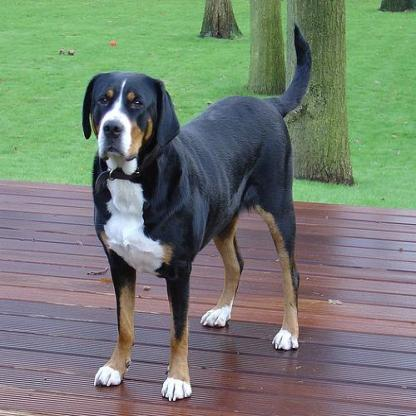Greater_Swiss_Mountain_dog: (81, 21, 312, 402)
